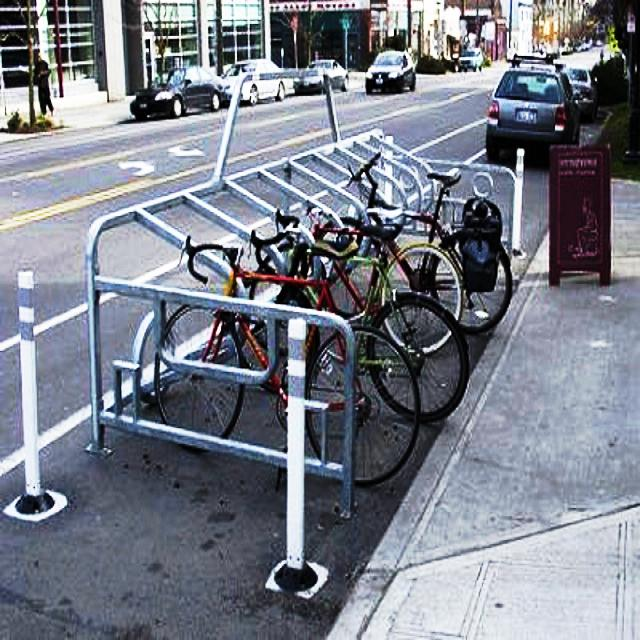bike: (153, 236, 420, 488), (233, 230, 470, 426), (312, 152, 513, 336)
